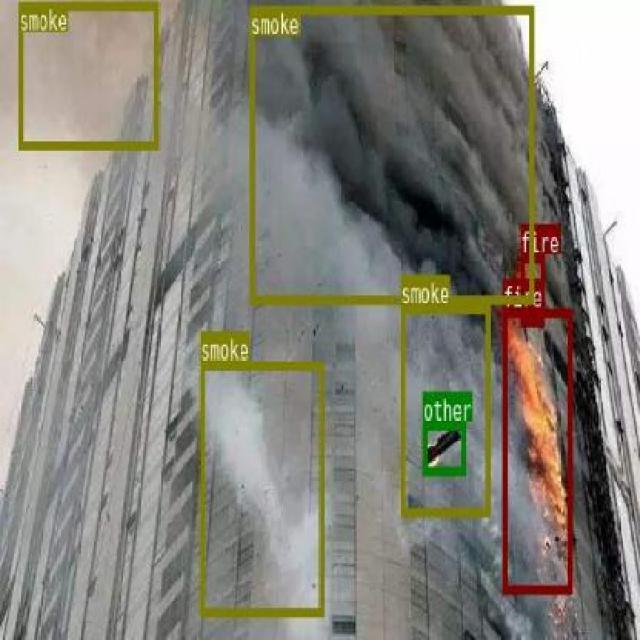Fire: (502, 308, 572, 590)
Smoke: (250, 4, 532, 302), (200, 360, 322, 614), (18, 0, 158, 148), (398, 304, 489, 514)
